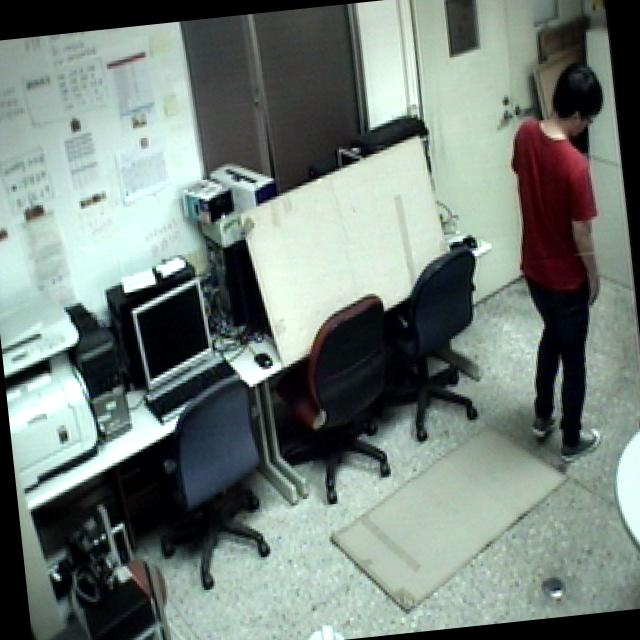stand: (486, 49, 640, 472)
